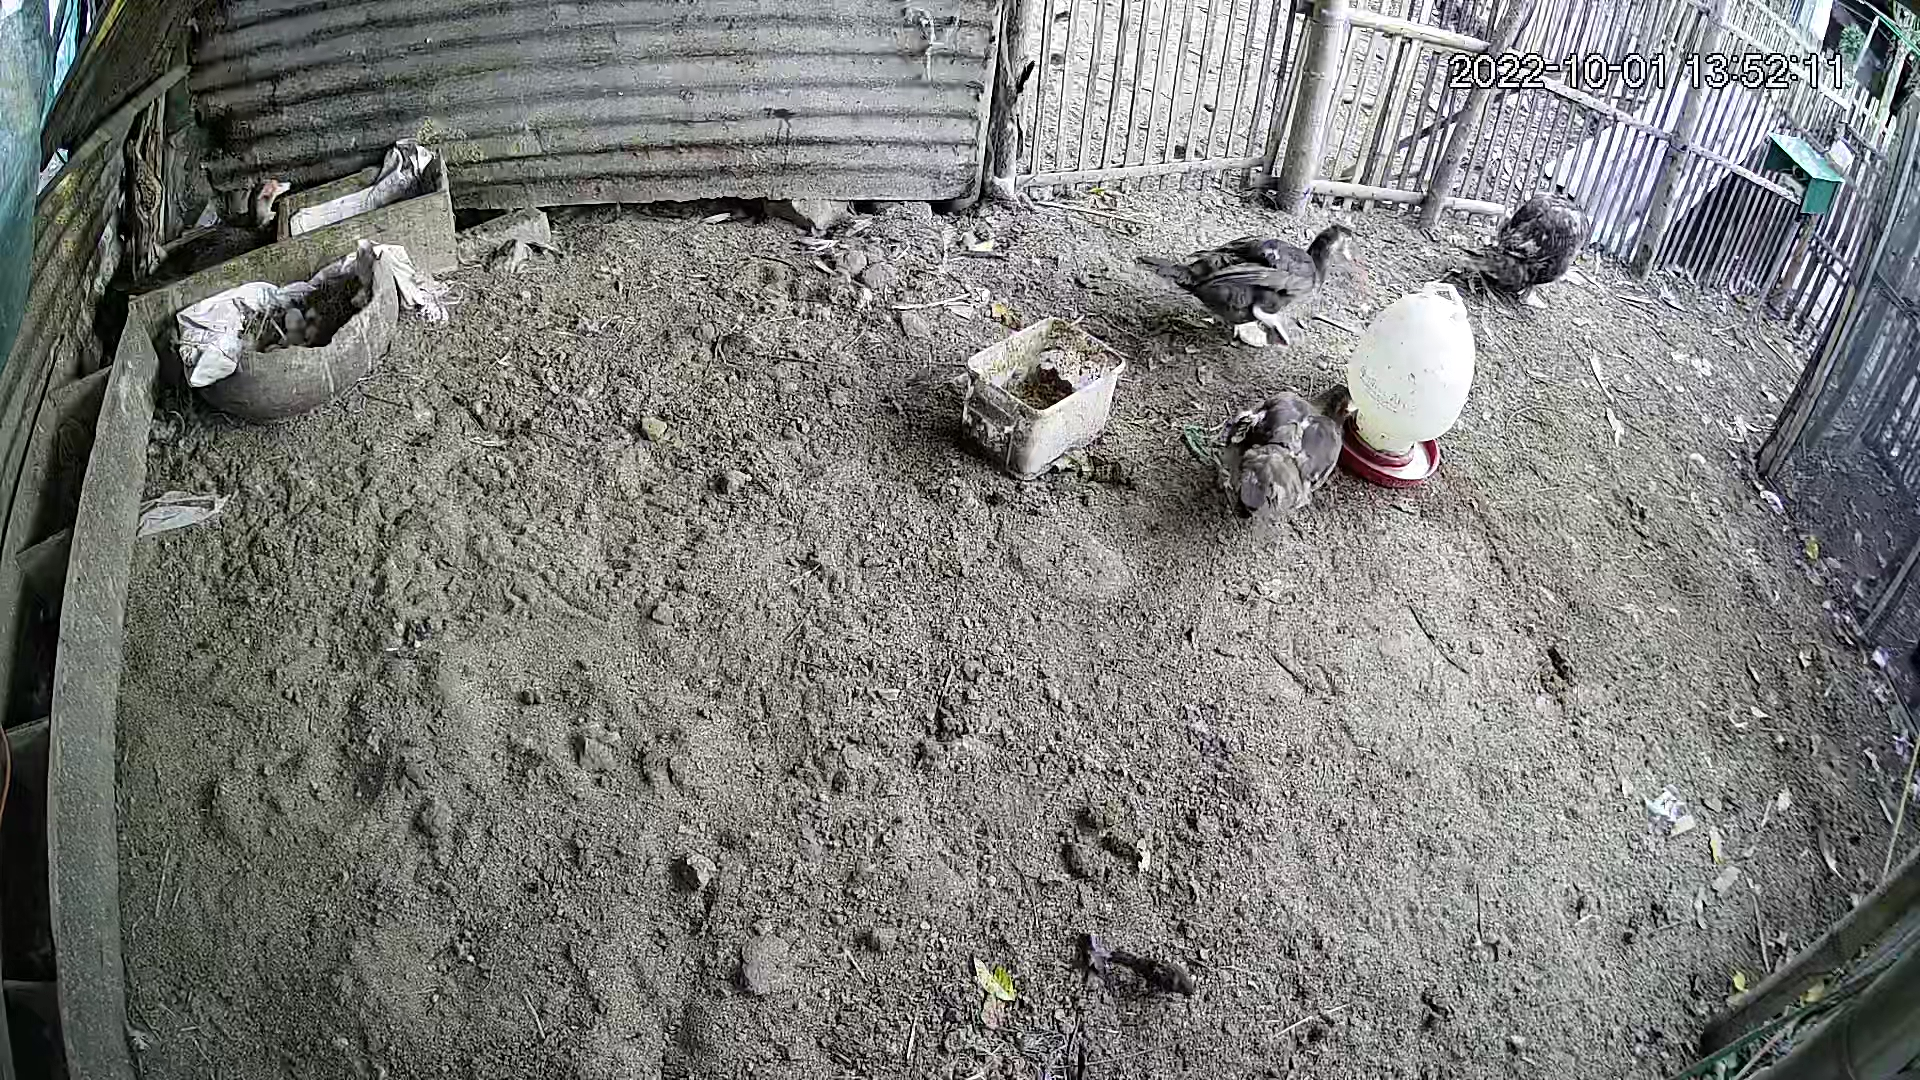Mengeram: (104, 129, 419, 410)
